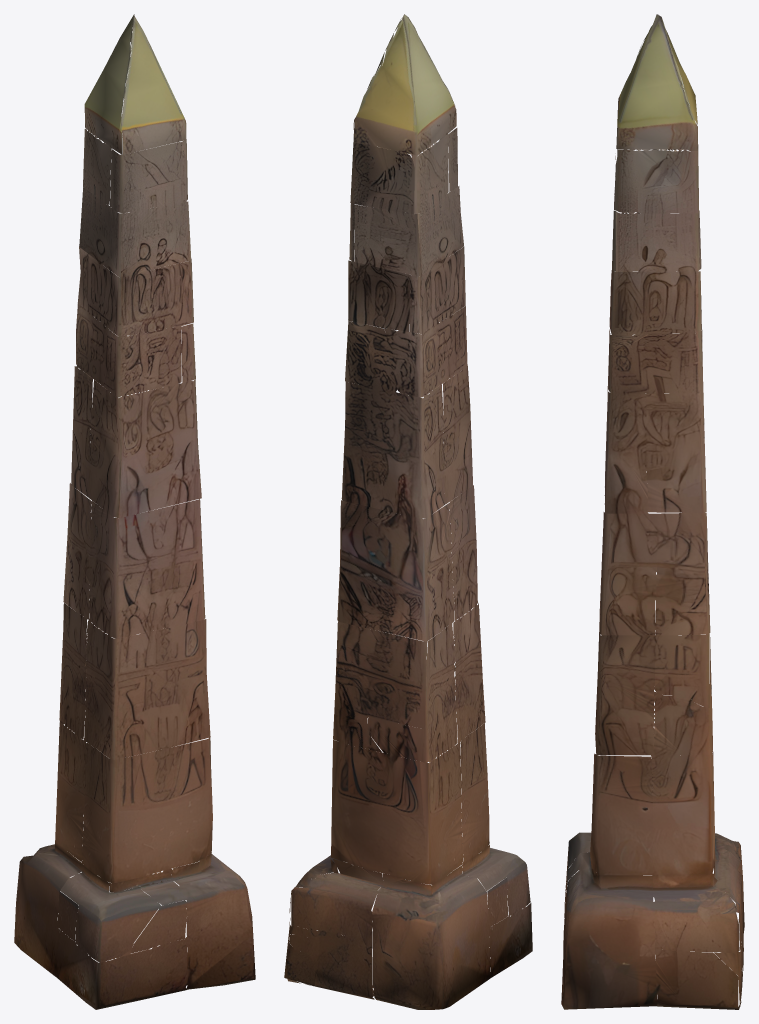
Rendered from Main_Obelisk.glb.
3 views of the same model, side by side, from view 1: azimuth 30°, elevation 25°; view 2: azimuth 150°, elevation 25°; view 3: azimuth 270°, elevation 25° (orthographic).
Visible parts, largest first — view 1: tripo_node_4ac42370-0209-4425-ac8b-9fd0d66c550e; view 2: tripo_node_4ac42370-0209-4425-ac8b-9fd0d66c550e; view 3: tripo_node_4ac42370-0209-4425-ac8b-9fd0d66c550e.
Part boxes in pixels (box(x1,y1,x2,y2)): tripo_node_4ac42370-0209-4425-ac8b-9fd0d66c550e: box(14, 14, 255, 1009); tripo_node_4ac42370-0209-4425-ac8b-9fd0d66c550e: box(284, 14, 532, 1009); tripo_node_4ac42370-0209-4425-ac8b-9fd0d66c550e: box(561, 14, 744, 1009).
Bounding box in the file's own units: 0.1785 × 1 × 0.1734.
Materials: 1 (1 with a texture image).
